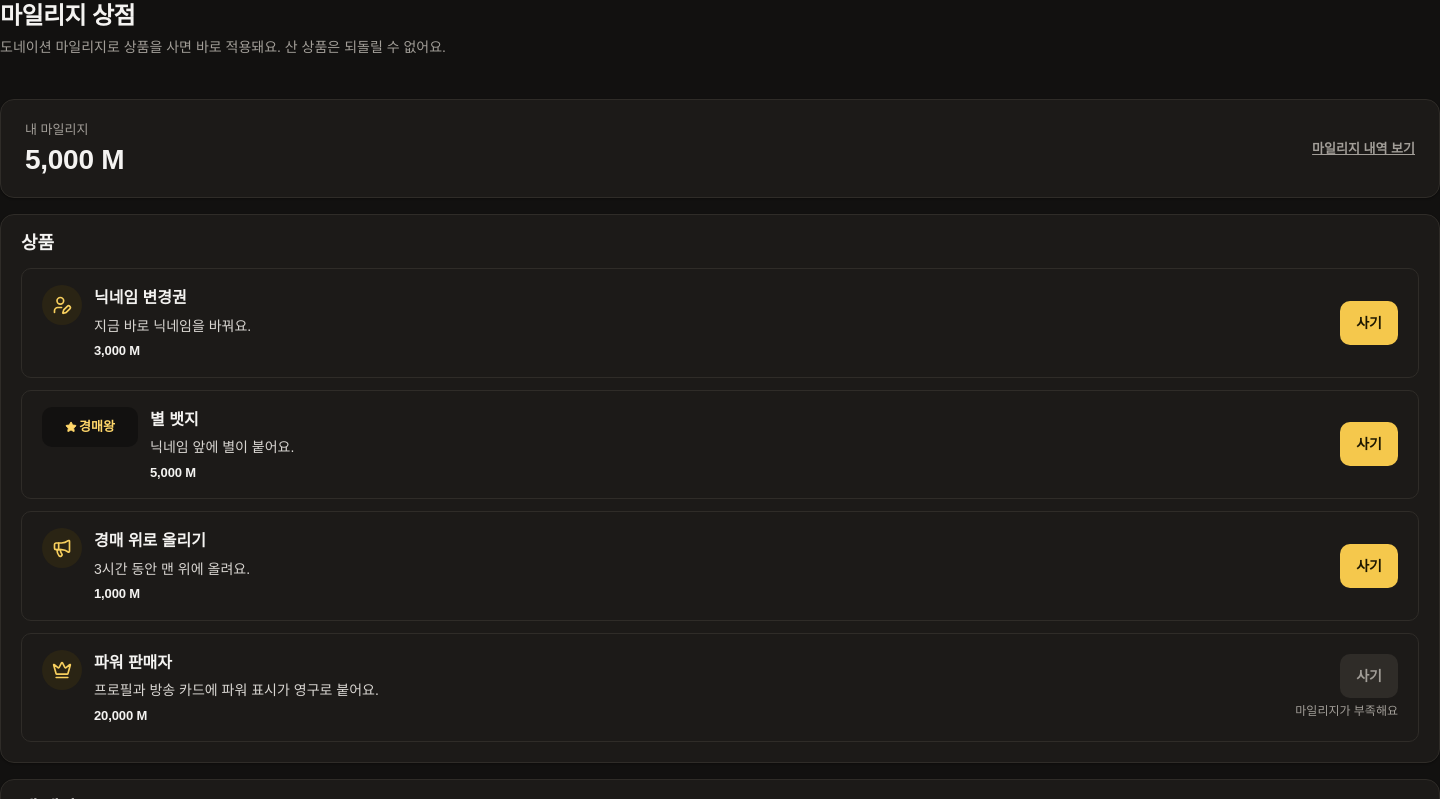
ShopPage › 닉네임 변경권을 사면 새 닉네임을 보내고, 새 토큰으로 바꾼 뒤 성공을 알린다
The image size is (1440, 799).
Click the button with aria-label "닉네임 변경권 사기". click: x=1369, y=323
box: left=1340, top=301, right=1398, bottom=345
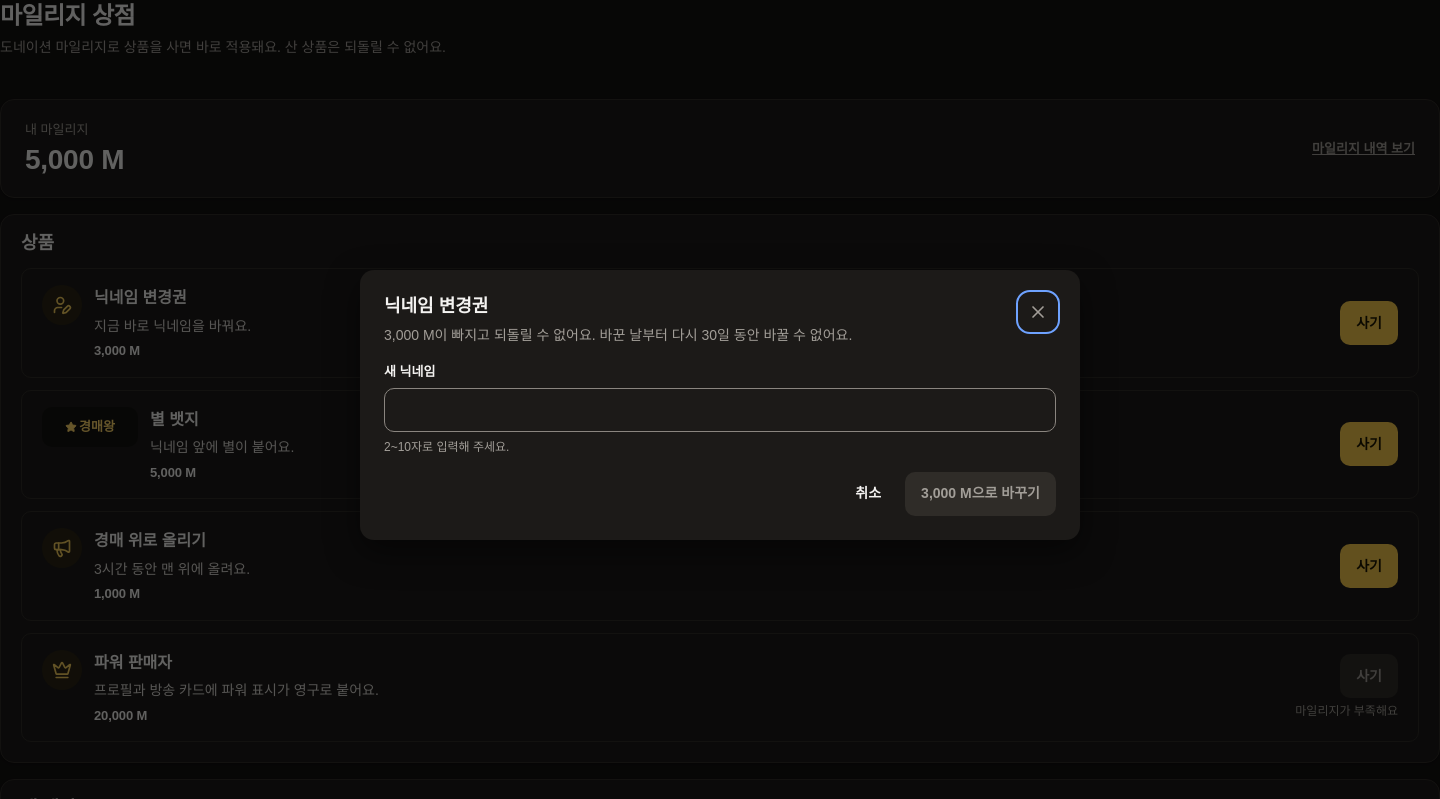
Type "새닉네임" into the field labelled "새 닉네임". click: x=720, y=410
box: left=384, top=388, right=1056, bottom=432
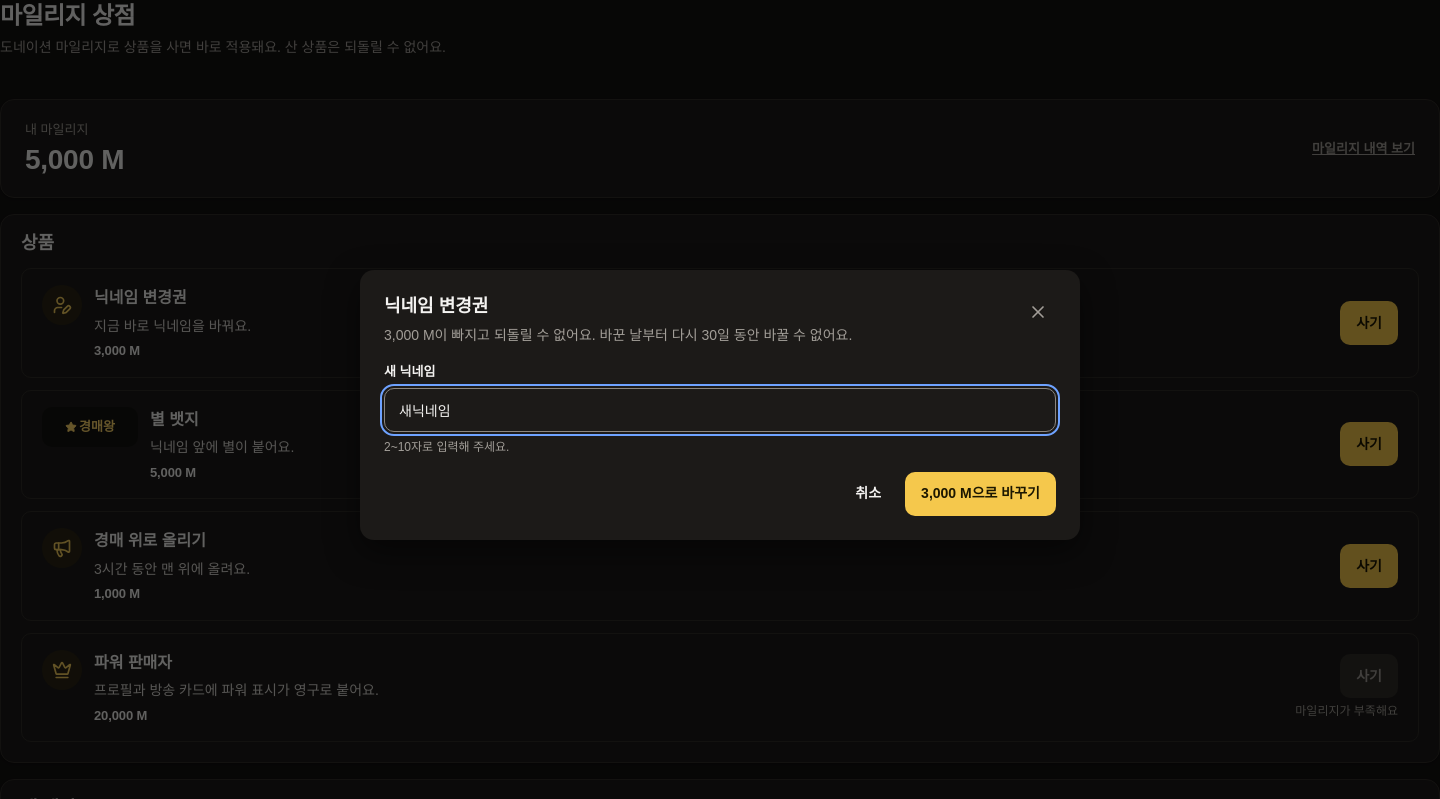
Click the button "3,000 M으로 바꾸기". click: x=981, y=494
box: left=905, top=472, right=1056, bottom=516
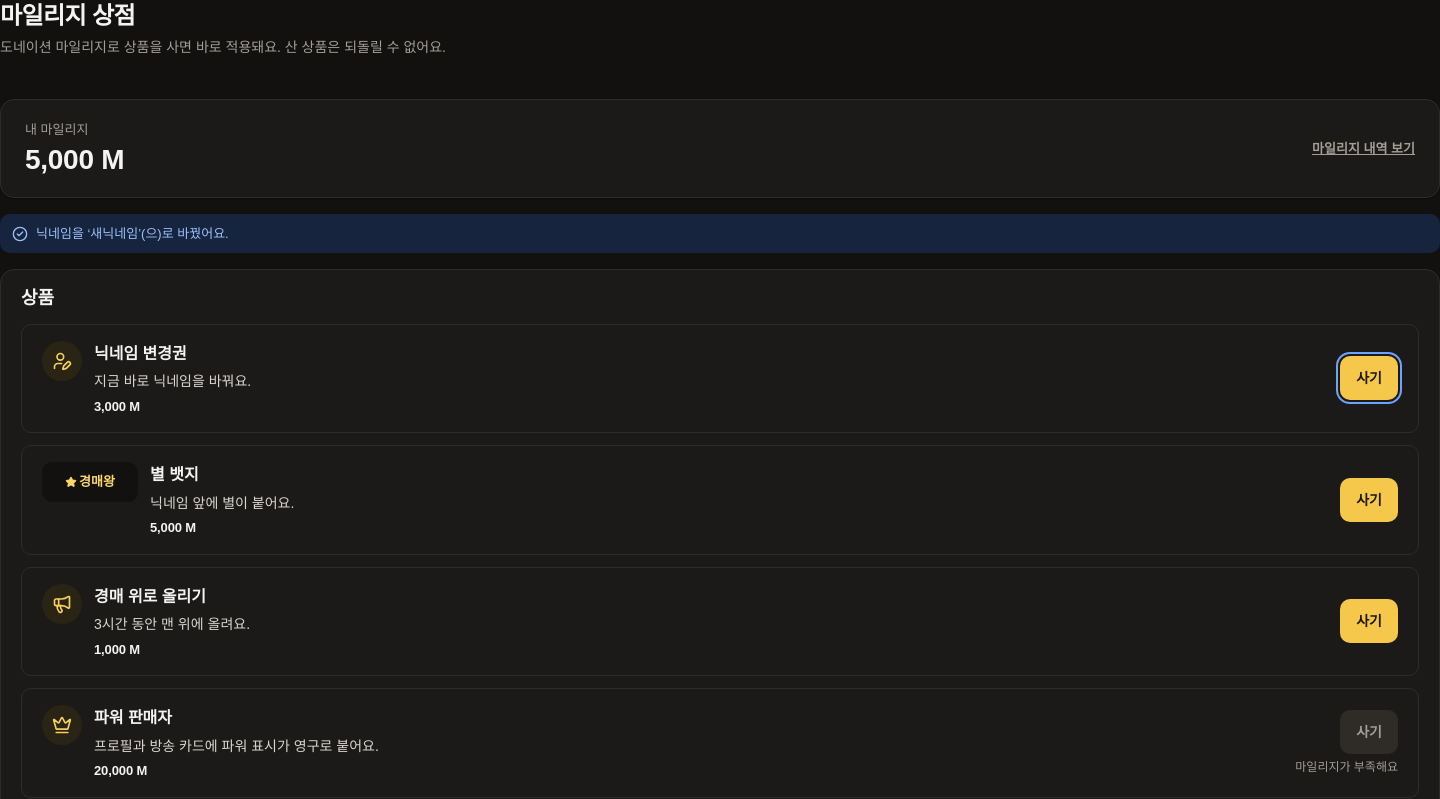
Result: the text "닉네임을 ‘새닉네임’(으)로 바꿨어요." is shown at left=36, top=224, right=229, bottom=243
